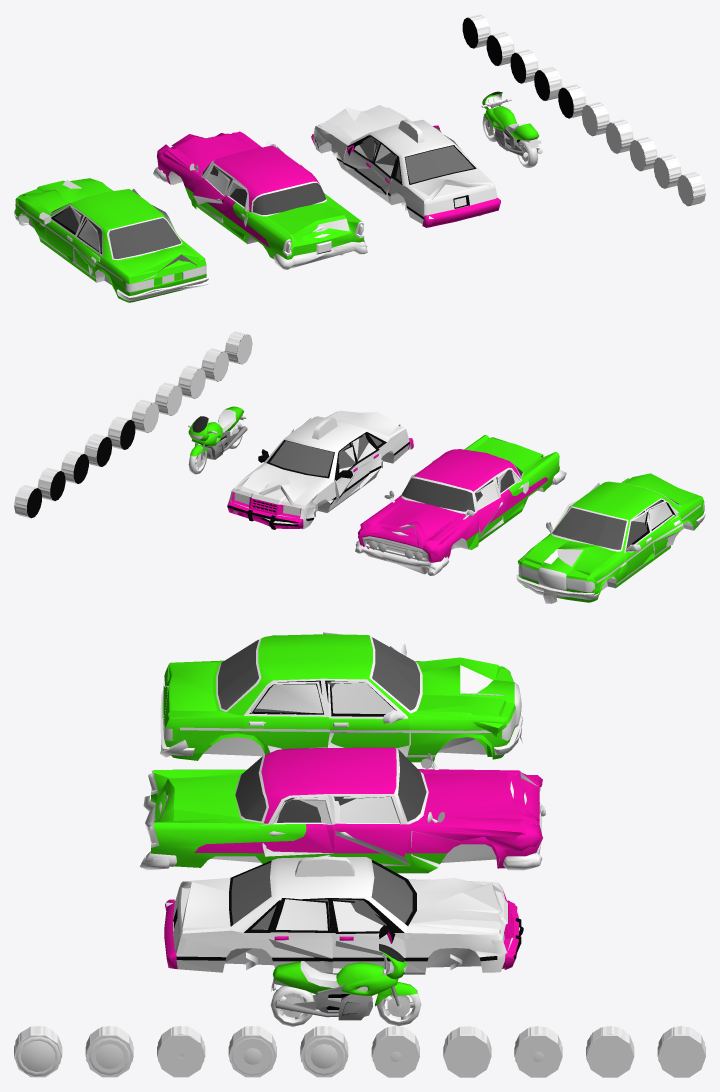
Rendered from cars.obj.
3 views of the same model, one above another, from view 1: azimuth 30°, elevation 25°; view 2: azimuth 150°, elevation 25°; view 3: azimuth 270°, elevation 25° (orthographic). The views are drawn at different scales.
Visible parts, largest first — view 1: chassis_hi.002, chassis_hi.001, chassis_hi.003, boot_hi_dam.001, chassis_hi.004, bonnet_hi_dam.001, bonnet_hi_dam.002, bonnet_hi_dam, door_lf_hi_ok.001, boot_hi_dam, wing_lf_hi_ok.002, boot_hi_dam.002 (+27 smaller); view 2: chassis_hi.002, chassis_hi.001, chassis_hi.003, windscreen_hi_ok.001, bonnet_hi_dam.001, bonnet_hi_dam, chassis_hi.004, bonnet_hi_dam.002, windscreen_hi_ok.002, windscreen_hi_ok.003, wing_lf_hi_ok.002, door_lf_hi_ok.001 (+31 smaller); view 3: chassis_hi.002, chassis_hi.001, chassis_hi.003, chassis_hi.004, bonnet_hi_dam.001, bonnet_hi_dam, door_rf_hi_dam.001, door_rf_hi_dam, bonnet_hi_dam.002, door_rr_hi_dam.002, door_rr_hi_ok.002, door_rr_hi_ok.001 (+39 smaller).
Boxes of the visible parts, x1,y1,x2,y2 form: chassis_hi.002: (198, 145, 364, 259); chassis_hi.001: (28, 187, 206, 302); chassis_hi.003: (331, 119, 497, 224); boot_hi_dam.001: (268, 202, 349, 245); chassis_hi.004: (482, 91, 542, 157); bonnet_hi_dam.001: (171, 133, 252, 169); bonnet_hi_dam.002: (326, 105, 404, 139); bonnet_hi_dam: (23, 178, 111, 212); door_lf_hi_ok.001: (44, 204, 84, 261); boot_hi_dam: (118, 245, 199, 280); wing_lf_hi_ok.002: (157, 148, 202, 208); boot_hi_dam.002: (409, 169, 490, 200); chassis_hi.002: (362, 435, 559, 561); chassis_hi.001: (518, 478, 704, 602); chassis_hi.003: (231, 411, 409, 518); windscreen_hi_ok.001: (553, 507, 626, 549); bonnet_hi_dam.001: (370, 500, 460, 545); bonnet_hi_dam: (525, 536, 616, 575); chassis_hi.004: (188, 406, 247, 459); bonnet_hi_dam.002: (241, 464, 324, 505); windscreen_hi_ok.002: (402, 478, 474, 511); windscreen_hi_ok.003: (270, 441, 333, 476); wing_lf_hi_ok.002: (422, 510, 477, 562); door_lf_hi_ok.001: (624, 509, 652, 576); chassis_hi.002: (148, 747, 540, 873); chassis_hi.001: (163, 634, 521, 762); chassis_hi.003: (173, 856, 513, 974); chassis_hi.004: (271, 944, 407, 1020); bonnet_hi_dam.001: (423, 772, 539, 820); bonnet_hi_dam: (417, 657, 505, 716); door_rf_hi_dam.001: (334, 794, 410, 865); door_rf_hi_dam: (328, 680, 409, 756); bonnet_hi_dam.002: (410, 877, 503, 924); door_rr_hi_dam.002: (268, 898, 332, 972); door_rr_hi_ok.002: (258, 794, 333, 856); door_rr_hi_ok.001: (243, 678, 328, 752).
Bounding box in the file's own units: 14.08 × 1.67 × 10.47.
